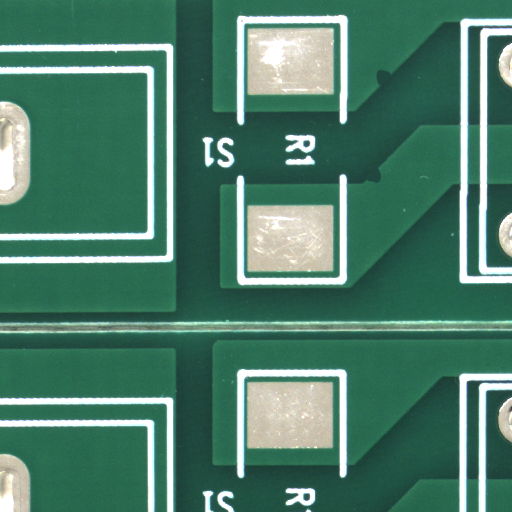Mouse_bite: (374, 175, 390, 190), (384, 78, 399, 93)
